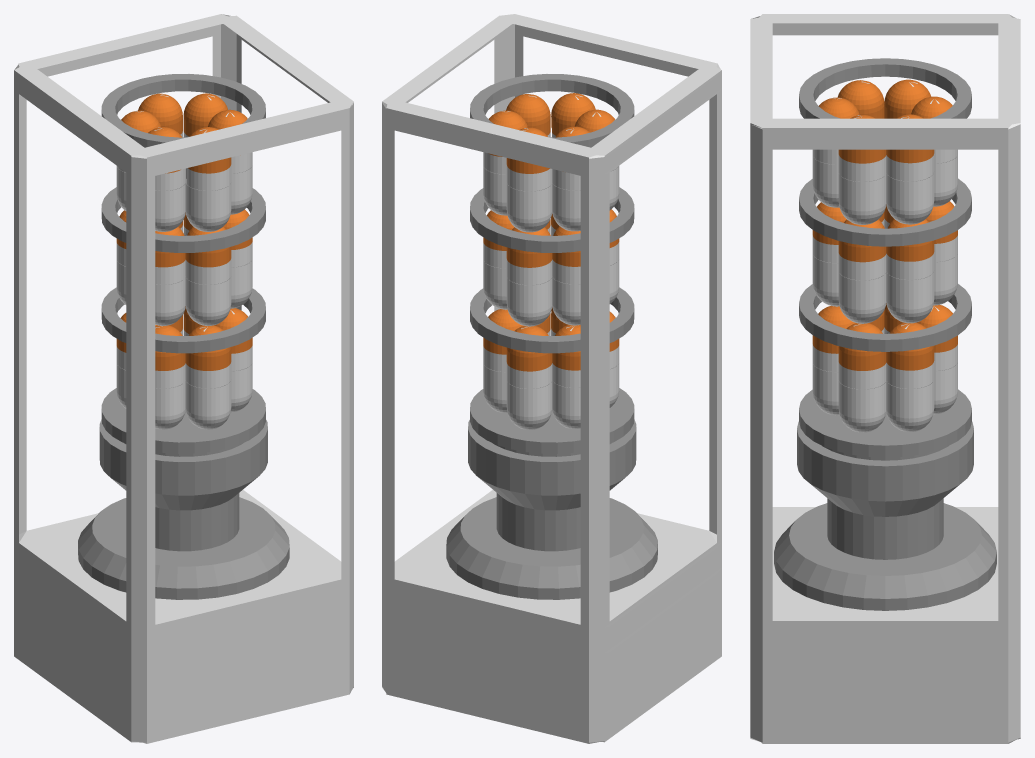
The model's file is Bioreactor.fbx.
3 renders of one model, left to right at view 1: azimuth 30°, elevation 25°; view 2: azimuth 150°, elevation 25°; view 3: azimuth 270°, elevation 25°, orthographic. The views are drawn at different scales.
Parts seen in each view (by area): view 1: Plane.001; view 2: Plane.001; view 3: Plane.001.
Part boxes in pixels (x1,y1,x2,y2): Plane.001: [14, 14, 353, 743]; Plane.001: [382, 14, 721, 743]; Plane.001: [750, 14, 1020, 743].
Size of the model in its own units: 315 by 793 by 315.
